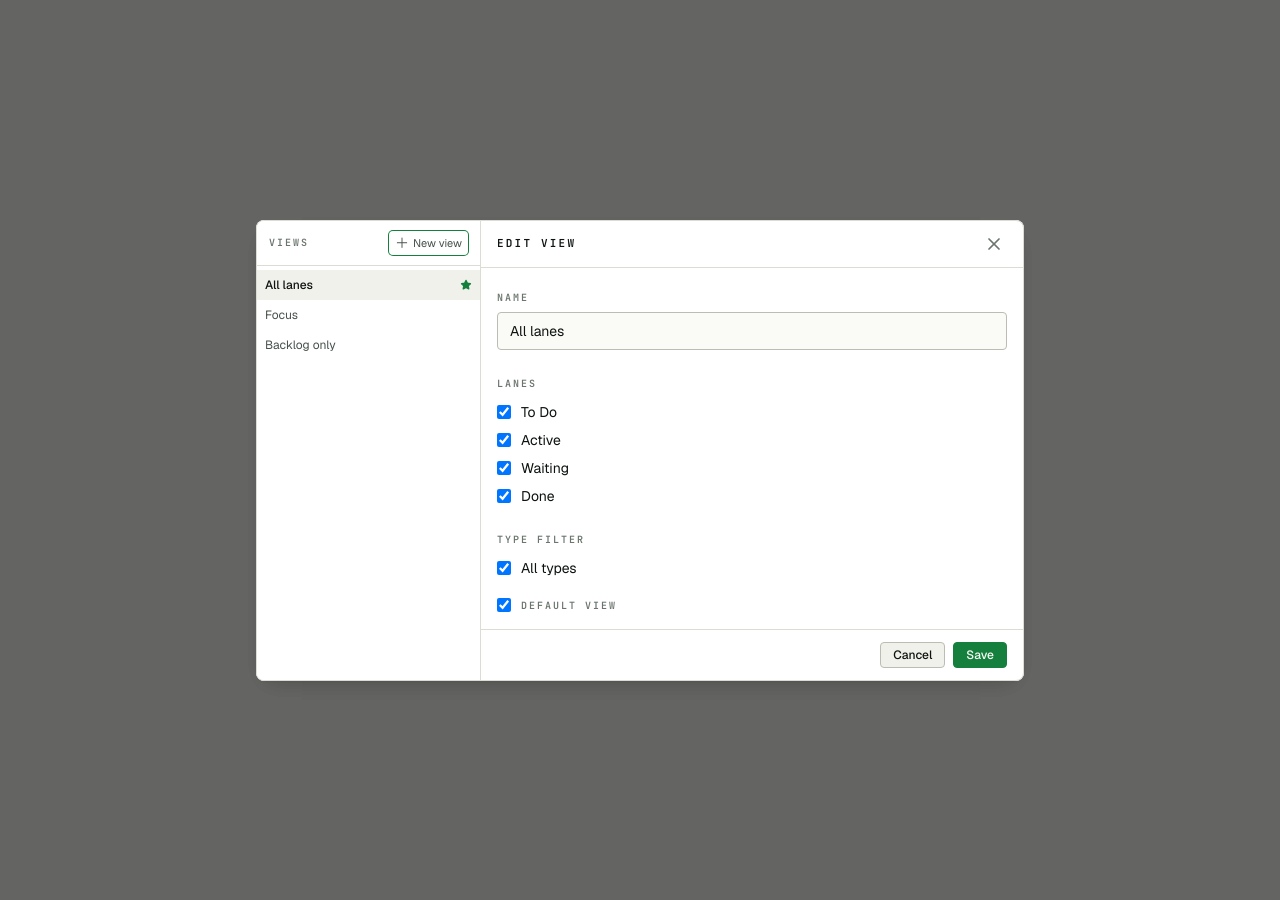
Test: ViewEditor — validation & save › save with zero lanes shows 'At least one lane must be selected.' error
This screenshot has width=1280, height=900.
Expected: the field showing "All lanes" is shown, left=497, top=312, right=1007, bottom=350
Click the checkbox labelled "Lanes To Do Active Waiting Done" at (504, 412), box left=497, top=404, right=511, bottom=418
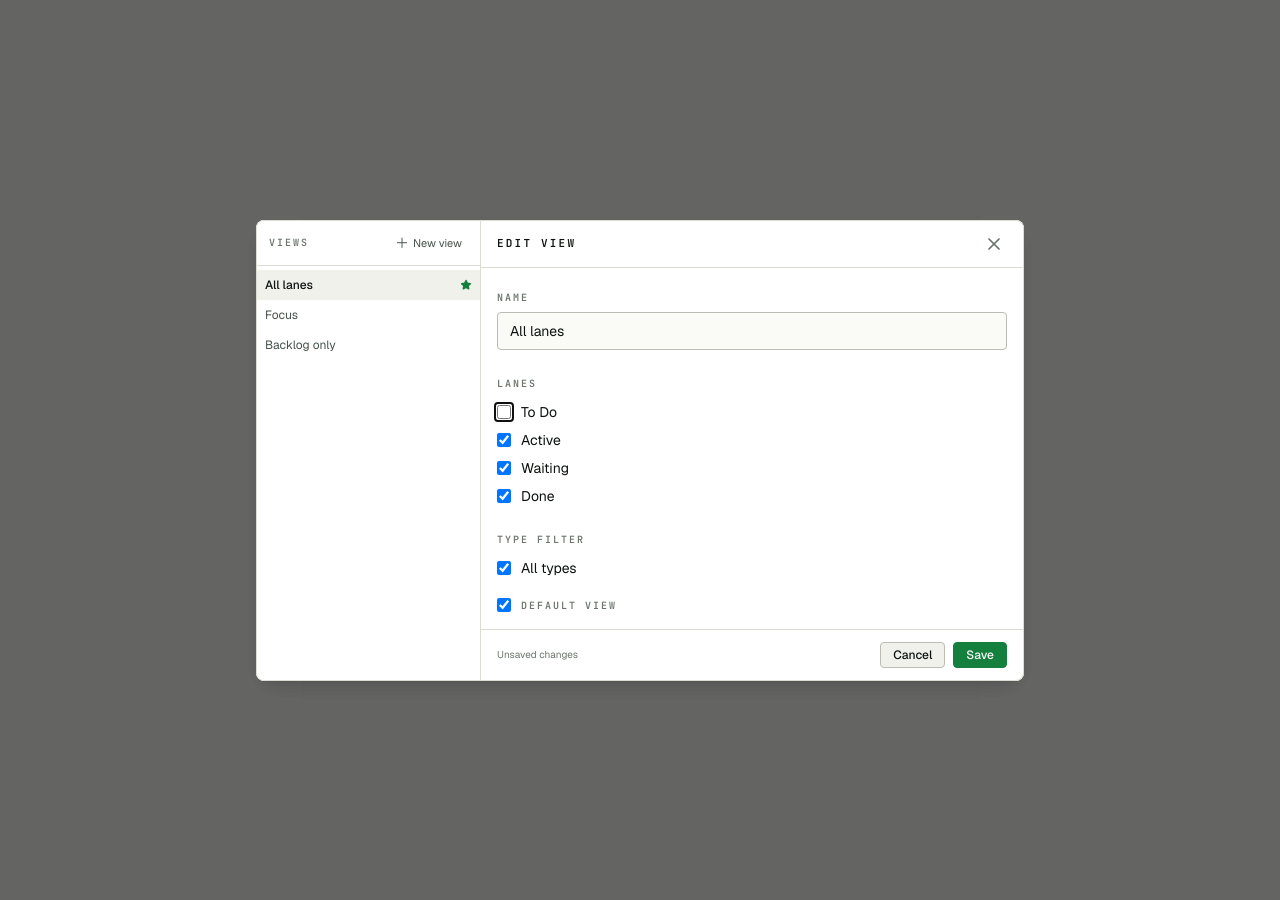
Click the checkbox labelled "Active" at (504, 440), box left=497, top=432, right=511, bottom=446
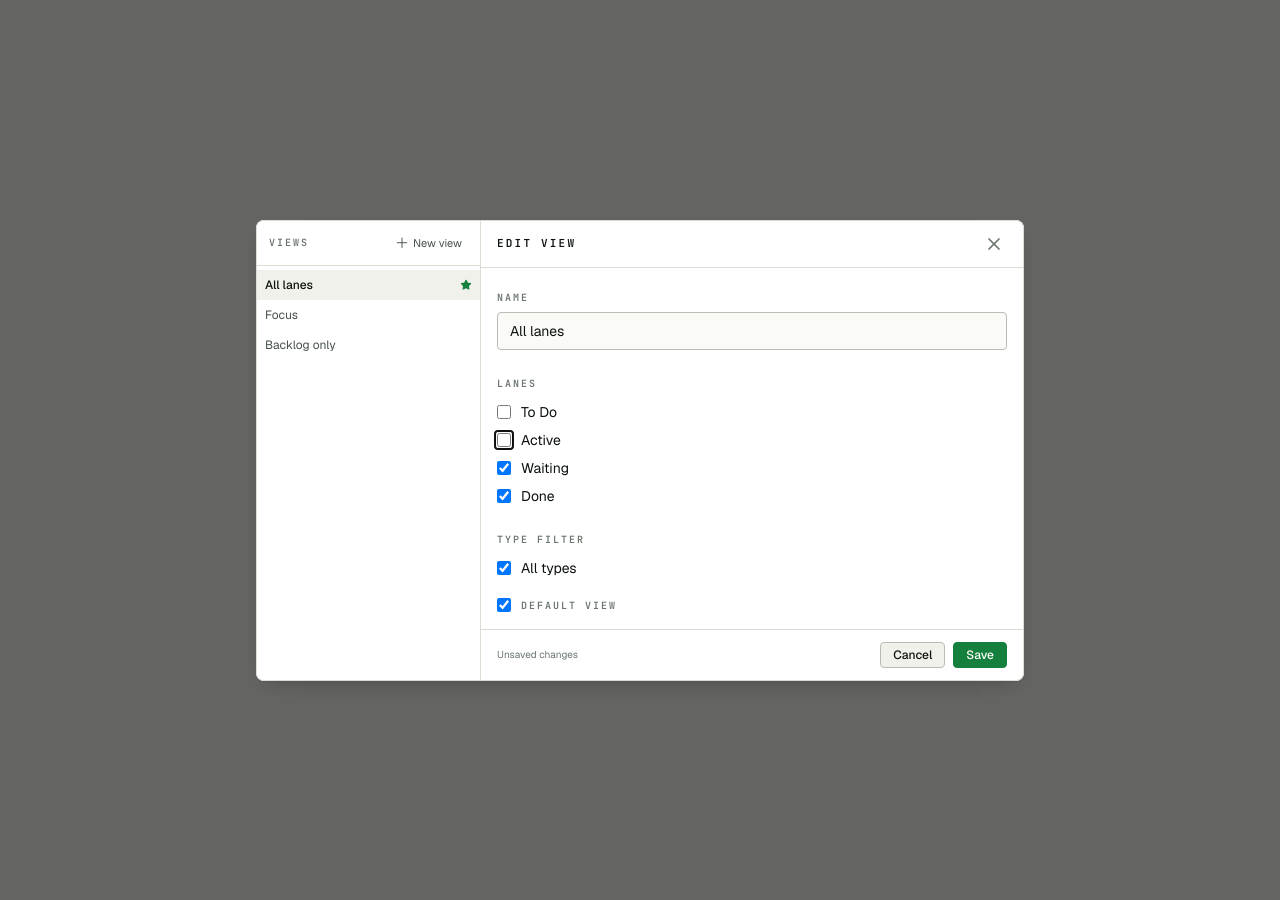
Click the checkbox labelled "Waiting" at (504, 468), box left=497, top=460, right=511, bottom=474
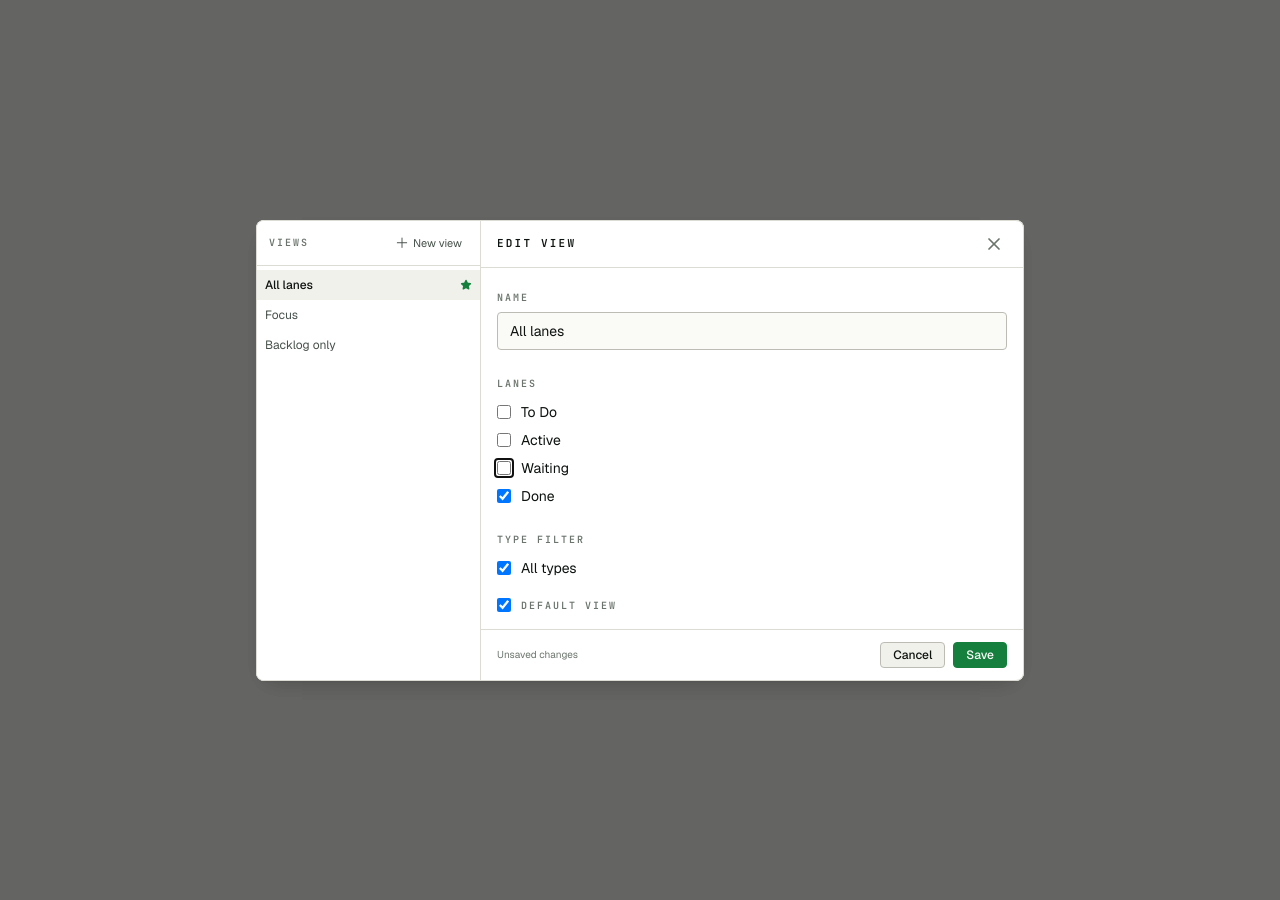
Click the checkbox labelled "Done" at (504, 496), box left=497, top=488, right=511, bottom=502
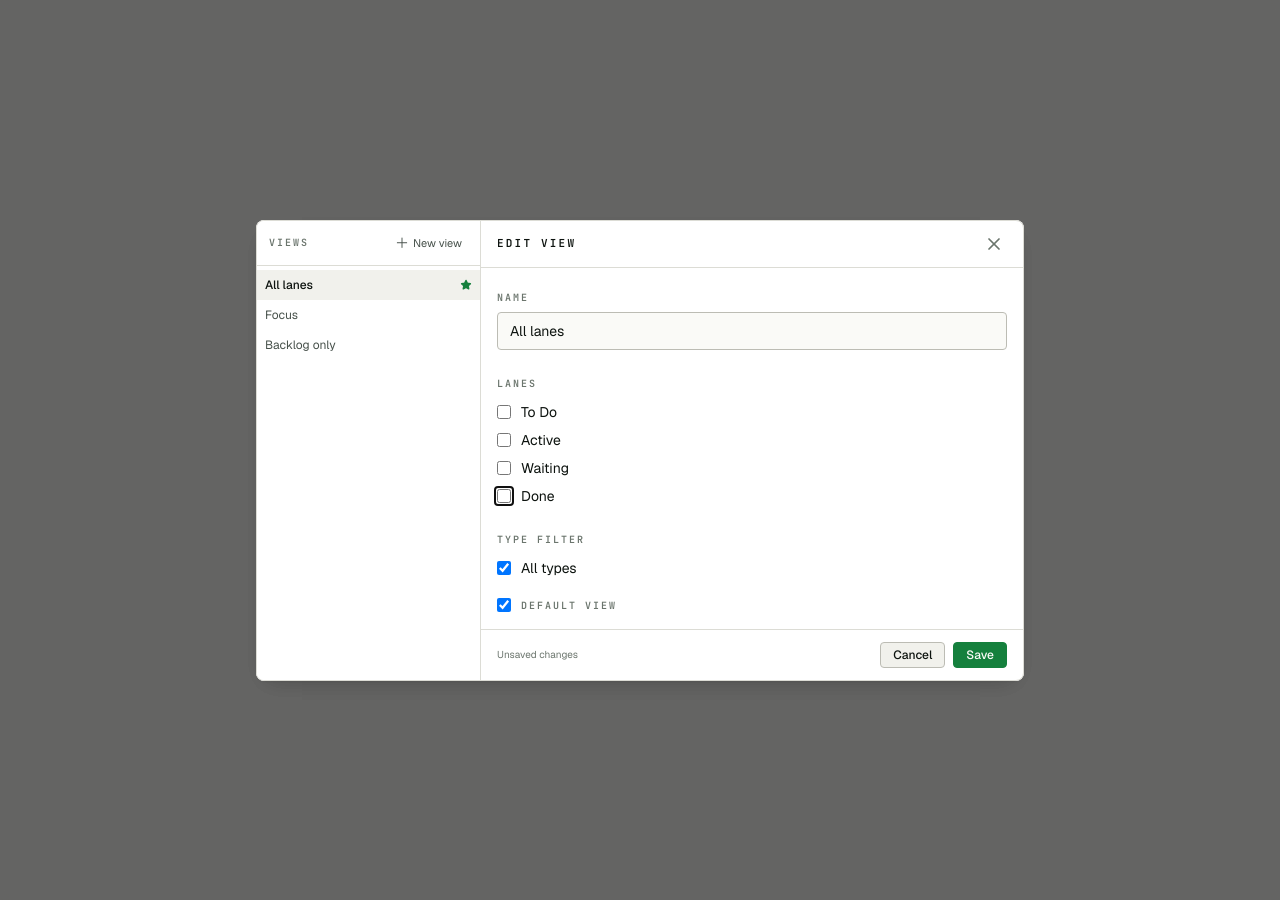
Click the button "Save" at (980, 654), box left=953, top=642, right=1007, bottom=668
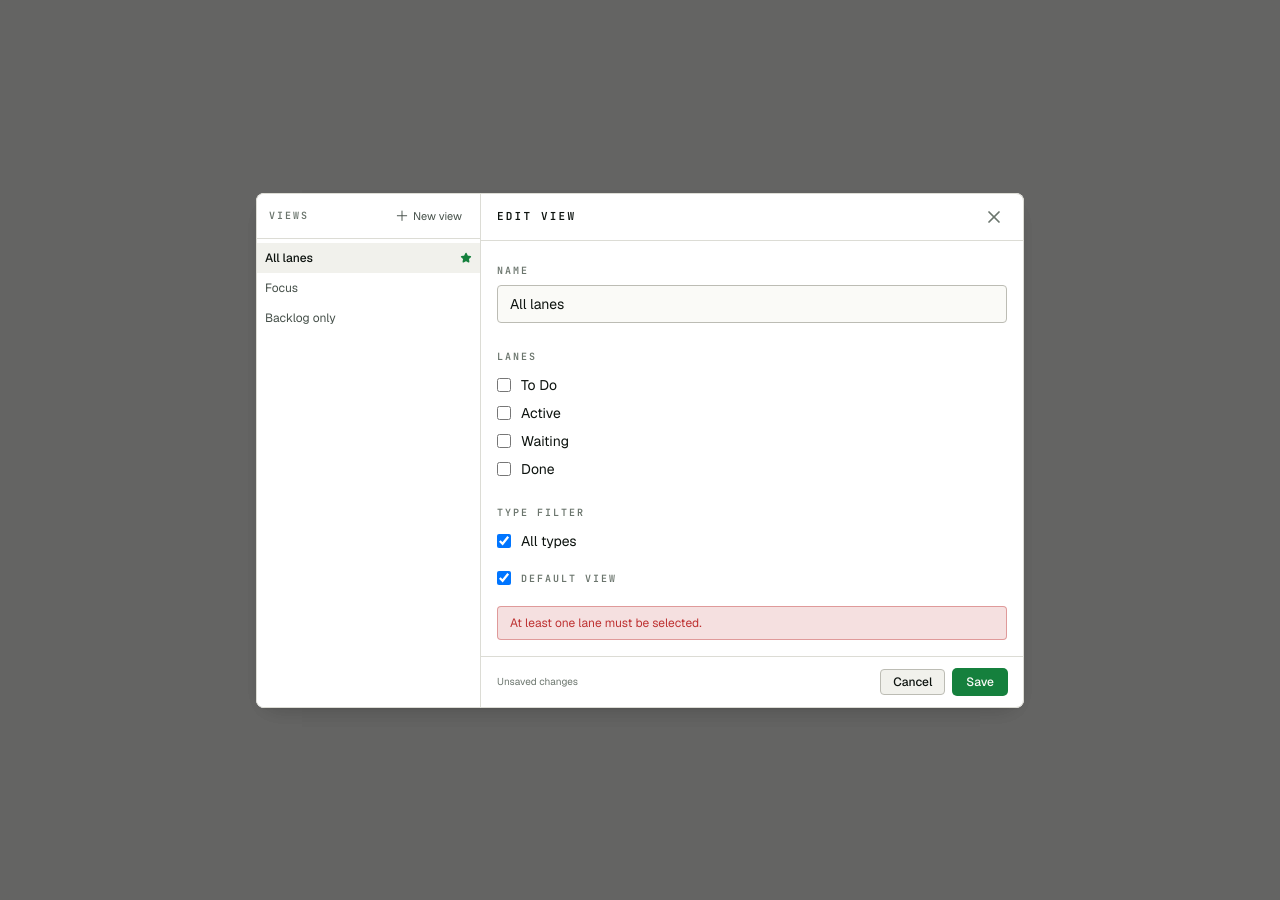
Expected: the text "At least one lane must be selected." is shown, left=497, top=606, right=1007, bottom=640
